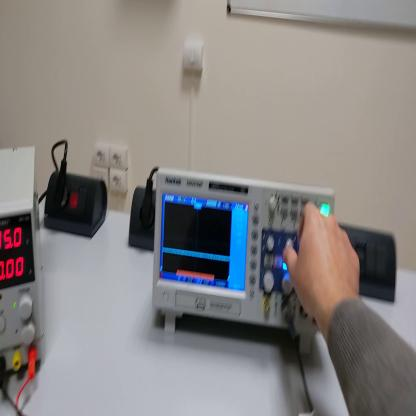hand: (285, 202, 362, 321)
oscilloscope: (155, 159, 342, 346)
power supply: (1, 144, 44, 375)
socket: (43, 173, 110, 239), (129, 183, 157, 254)
